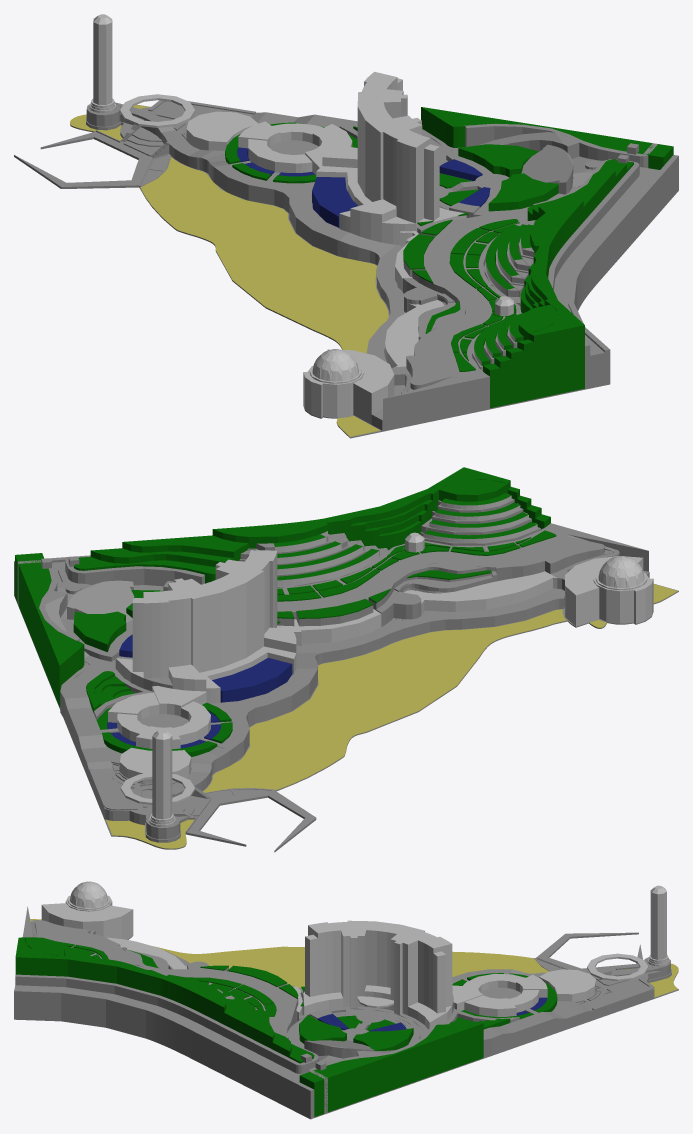
File: grad.glb
3 renders of one model, top to bottom at view 1: azimuth 30°, elevation 25°; view 2: azimuth 150°, elevation 25°; view 3: azimuth 270°, elevation 25°, orthographic. The views are drawn at different scales.
Visible parts, largest first — view 1: Layer:0, Layer:buildings, Layer:greenary, Layer:water; view 2: Layer:0, Layer:buildings, Layer:greenary, Object001, Layer:water; view 3: Layer:0, Layer:buildings, Layer:greenary, Layer:water.
Part boxes in pixels (left/top/right/bottom): Layer:0: left=14, top=100, right=678, bottom=438; Layer:buildings: left=89, top=14, right=513, bottom=424; Layer:greenary: left=225, top=107, right=673, bottom=408; Layer:water: left=237, top=147, right=490, bottom=227; Layer:0: left=14, top=494, right=678, bottom=852; Layer:buildings: left=108, top=532, right=653, bottom=827; Layer:greenary: left=15, top=467, right=556, bottom=756; Object001: left=275, top=495, right=537, bottom=586; Layer:water: left=107, top=634, right=292, bottom=748; Layer:0: left=14, top=906, right=678, bottom=1119; Layer:buildings: left=41, top=881, right=669, bottom=1029; Layer:greenary: left=15, top=937, right=557, bottom=1116; Layer:water: left=317, top=997, right=547, bottom=1031.
Bounding box in the file's own units: 6.36 × 1.3 × 8.85.
